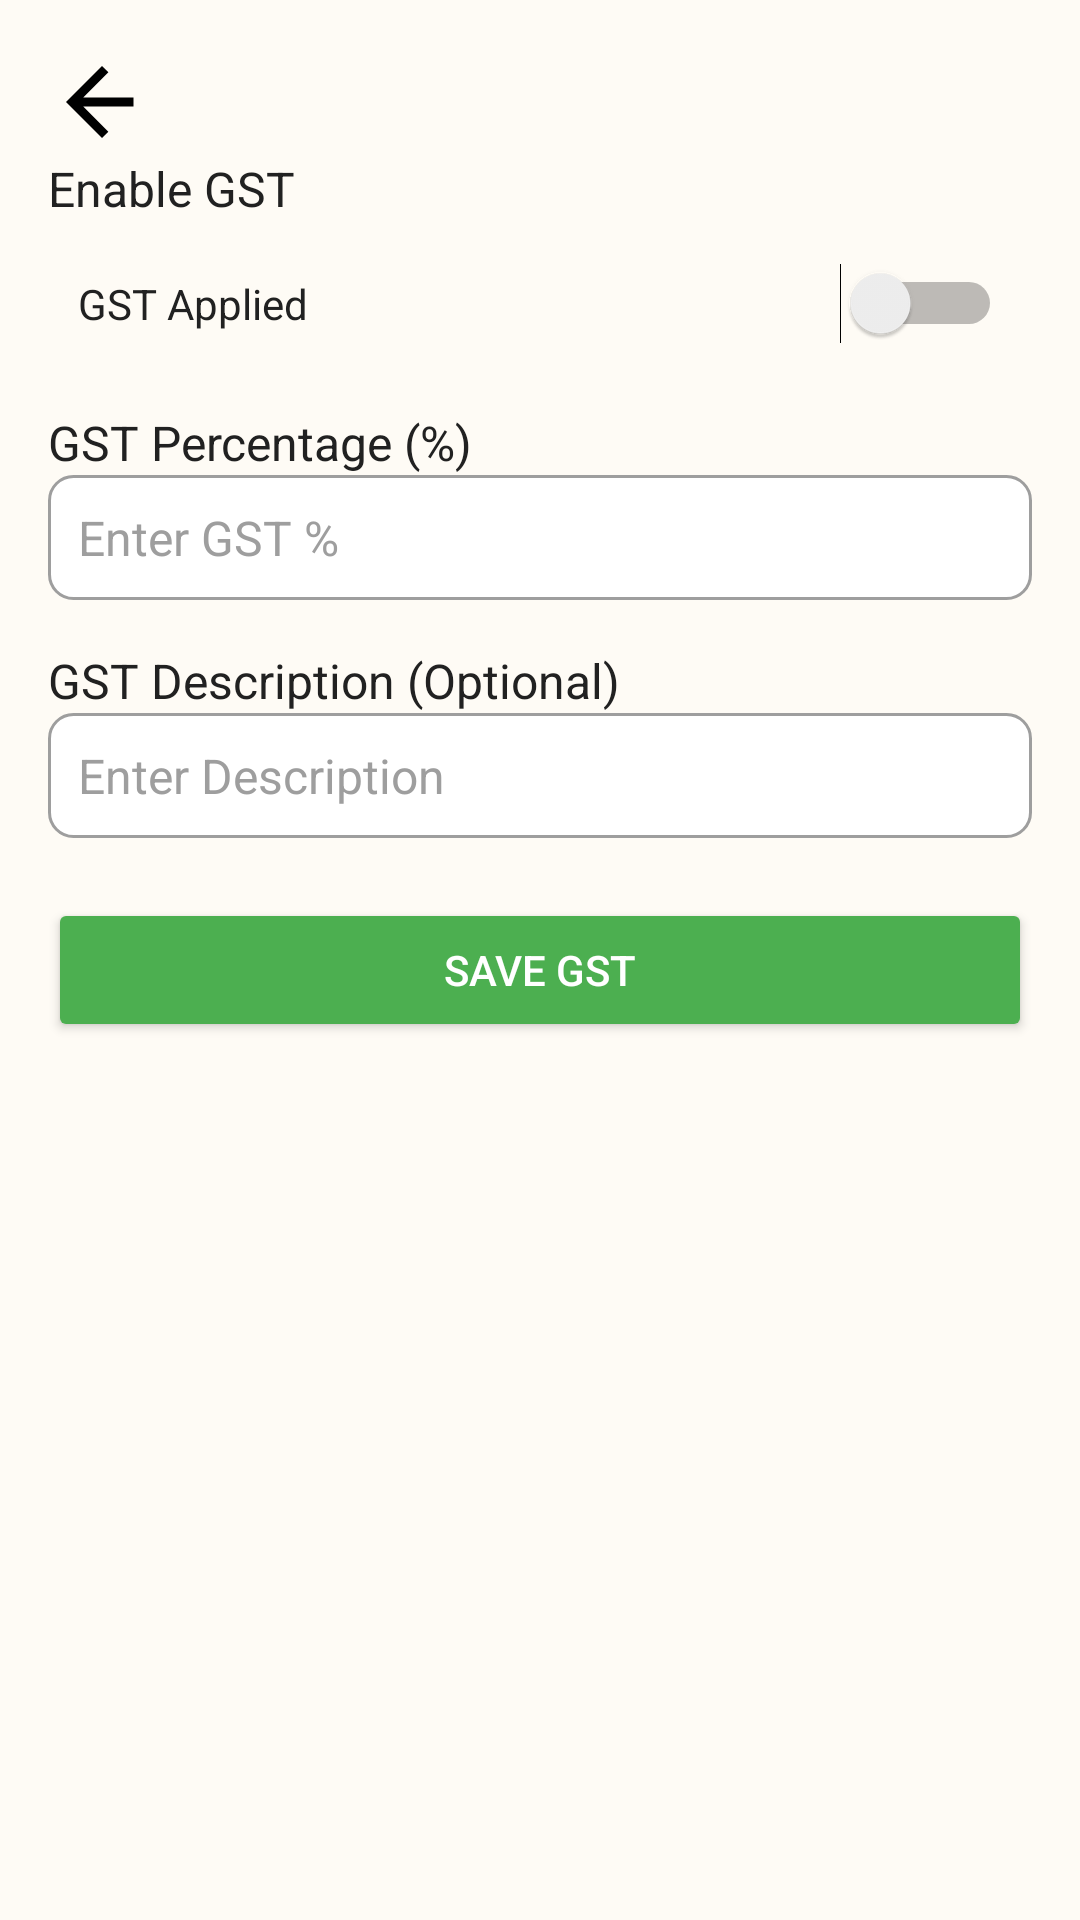

Where icons sit on this 1080 x 1920 app screen, as [left=x1, top=y1, right=x2, bottom=y2]:
back arrow: [left=66, top=66, right=134, bottom=138]
